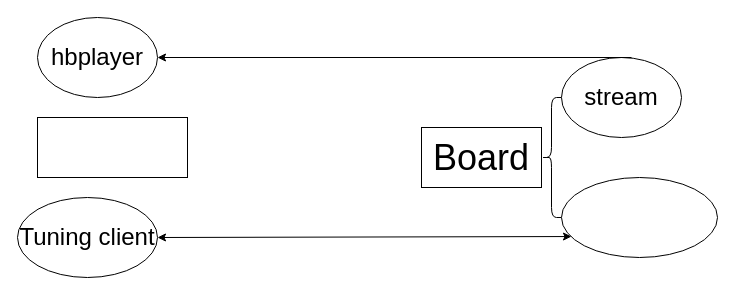
This 735x295 diagram has some shape labels left out. Each missing label, with the centre of its shape:
Host PC: (x=112, y=147)
Tuning server: (x=639, y=217)
